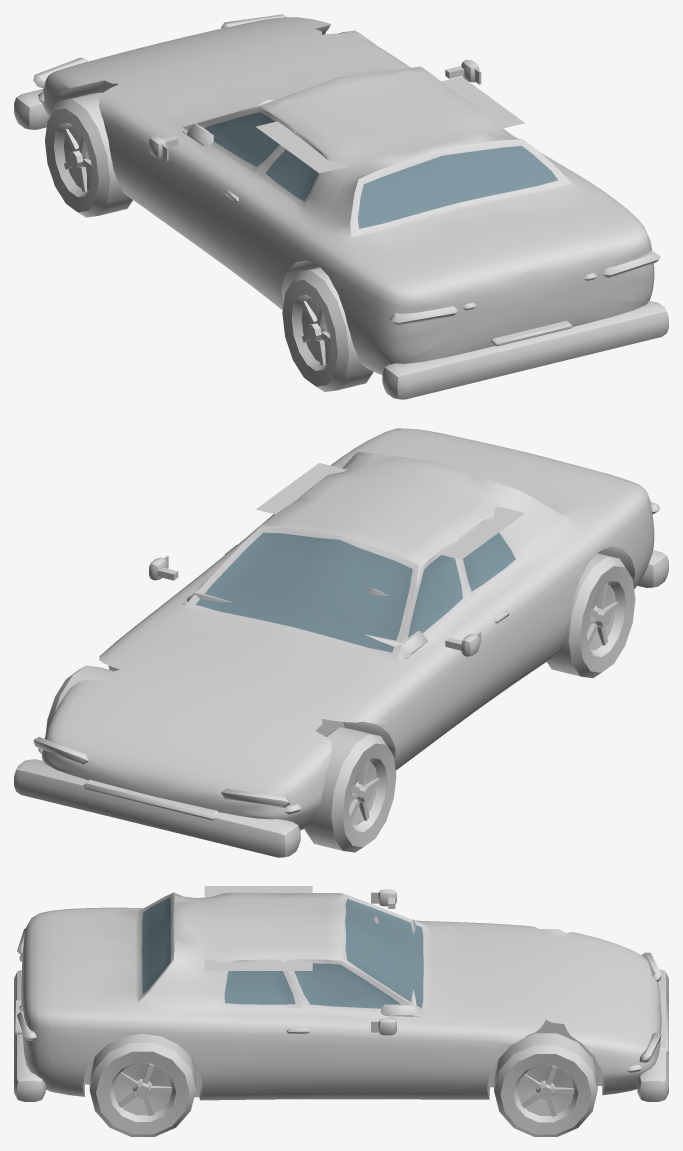
Rendered from car_sports.glb.
3 renders of one model, top to bottom at view 1: azimuth 30°, elevation 25°; view 2: azimuth 150°, elevation 25°; view 3: azimuth 270°, elevation 25°, orthographic. The views are drawn at different scales.
Parts seen in each view (by area): view 1: car_sports; view 2: car_sports; view 3: car_sports.
Boxes of the visible parts, x1=… form: car_sports: x1=14, y1=14, x2=668, y2=399; car_sports: x1=14, y1=428, x2=668, y2=857; car_sports: x1=14, y1=886, x2=668, y2=1136.
Bounding box in the file's own units: 2.2 × 1.23 × 4.55.
